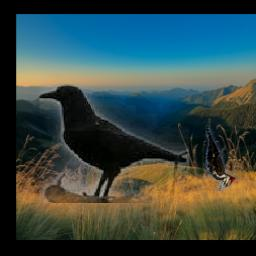Crow: (39, 85, 189, 204)
Woodpecker: (204, 122, 236, 191)
